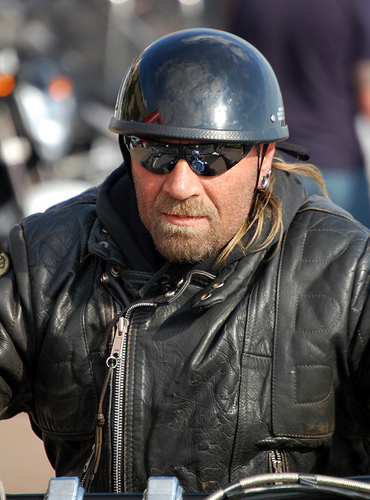helmet: (111, 36, 300, 155)
